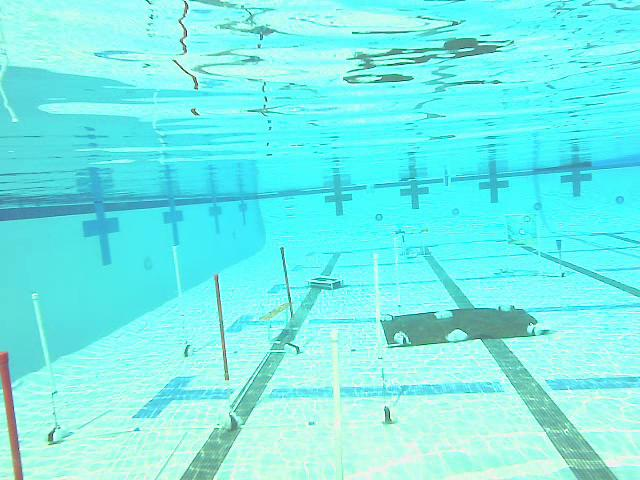black_poster: (208, 270, 242, 433), (274, 246, 305, 353)
white_poster: (364, 252, 408, 429), (24, 292, 71, 443), (169, 242, 199, 358)
